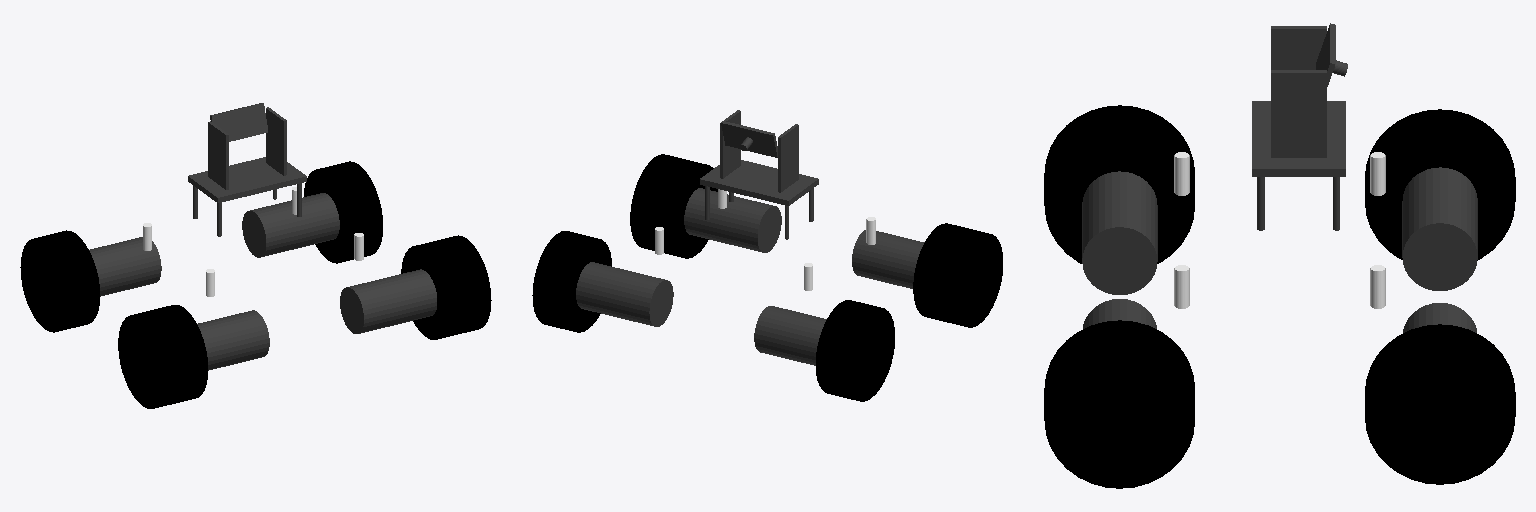
--- Render facts (derived) ---
Views: 3 orthographic renders of the robot side by side, from view 1: azimuth 30°, elevation 25°; view 2: azimuth 150°, elevation 25°; view 3: azimuth 270°, elevation 25°.
Model roberto with 24 links and 23 joints (4 revolute, 4 continuous, 15 fixed), rooted at base_link, posed all joints at 0.
Visible links, largest first — view 1: wheelBL_link, wheelFL_link, wheelBR_link, wheelFR_link, mountBR_link, mountFR_link, mountBL_link, mountFL_link, front_camera_base, front_camera_mount, front_camera_side_left, front_camera_side_right; view 2: wheelBL_link, wheelFL_link, wheelBR_link, wheelFR_link, mountFR_link, mountBR_link, mountFL_link, mountBL_link, front_camera_base, front_camera_side_left, front_camera_mount, front_camera_side_right; view 3: wheelBR_link, wheelFR_link, wheelBL_link, wheelFL_link, mountBL_link, mountFL_link, front_camera_side_right, front_camera_base, front_camera_side_left, mountFR_link, mountBR_link, front_camera_mount (+4 smaller).
Boxes of the visible links, x1,y1,x2,y2 form: wheelBL_link: (118,305,207,408); wheelFL_link: (20,230,99,332); wheelBR_link: (401,235,491,339); wheelFR_link: (304,161,382,263); mountBR_link: (340,269,436,333); mountFR_link: (242,193,339,257); mountBL_link: (197,310,269,370); mountFL_link: (89,237,161,296); front_camera_base: (188,157,306,202); front_camera_mount: (210,103,267,141); front_camera_side_left: (208,121,228,189); front_camera_side_right: (266,107,286,175); wheelBL_link: (913,223,1002,327); wheelFL_link: (816,300,894,401); wheelBR_link: (630,154,717,258); wheelFR_link: (532,231,611,332); mountFR_link: (576,262,673,326); mountBR_link: (684,188,781,252); mountFL_link: (754,306,826,365); mountBL_link: (852,230,924,288); front_camera_base: (700,160,818,205); front_camera_side_left: (778,124,798,192); front_camera_mount: (721,121,777,157); front_camera_side_right: (720,110,740,178); wheelBR_link: (1044,320,1194,488); wheelFR_link: (1365,324,1515,484); wheelBL_link: (1044,105,1194,263); wheelFL_link: (1365,109,1515,260); mountBL_link: (1082,171,1157,294); mountFL_link: (1402,167,1477,290); front_camera_side_right: (1271,70,1326,157); front_camera_base: (1252,101,1345,176); front_camera_side_left: (1271,26,1326,69); mountFR_link: (1403,303,1476,332); mountBR_link: (1083,299,1156,328); front_camera_mount: (1316,23,1335,86).
Size in the robot's own frame: 0.31 by 0.25 by 0.189 metres.
Geometry: only primitive shapes (box / cylinder / sphere) drawn; not drawn: 2 mesh visuals (reference in a form the renderer does not follow).

The robot description file, URDF, robot "roberto":
<?xml version="1.0" ?>
<!-- =================================================================================== -->
<!-- |    This document was autogenerated by xacro from roberto.xacro                  | -->
<!-- |    EDITING THIS FILE BY HAND IS NOT RECOMMENDED                                 | -->
<!-- =================================================================================== -->
<robot name="roberto" xmlns:xacro="http://www.ros.org/wiki/xacro">
  <material name="black">
    <color rgba="0.0 0.0 0.0 1.0"/>
  </material>
  <material name="blue">
    <color rgba="0.0 0.0 0.8 1.0"/>
  </material>
  <material name="green">
    <color rgba="0.0 0.8 0.0 1.0"/>
  </material>
  <material name="grey">
    <color rgba="0.3 0.3 0.3 1.0"/>
  </material>
  <material name="orange">
    <color rgba="1.0 0.423529411765 0.0392156862745 1.0"/>
  </material>
  <material name="brown">
    <color rgba="0.870588235294 0.811764705882 0.764705882353 1.0"/>
  </material>
  <material name="red">
    <color rgba="0.8 0.0 0.0 1.0"/>
  </material>
  <material name="white">
    <color rgba="1.0 1.0 1.0 1.0"/>
  </material>
  <!-- see https://secure.wikimedia.org/wikipedia/en/wiki/List_of_moment_of_inertia_tensors -->
  <!-- see https://secure.wikimedia.org/wikipedia/en/wiki/List_of_moment_of_inertia_tensors -->
  <!-- see https://secure.wikimedia.org/wikipedia/en/wiki/List_of_moment_of_inertia_tensors -->
  <!-- see https://secure.wikimedia.org/wikipedia/en/wiki/List_of_moment_of_inertia_tensors -->
  <!-- see https://secure.wikimedia.org/wikipedia/en/wiki/List_of_moment_of_inertia_tensors -->
  <!-- Base link -->
  <link name="base_link"/>
  <!--minimalist mesh-->
  <!-- joint and link definition -->
  <joint name="base2body_joint" type="fixed">
    <parent link="base_link"/>
    <child link="body_link"/>
    <!--parent link to this joint tf-->
    <origin rpy="0 0 0" xyz="0 0 0"/>
  </joint>
  <link name="body_link">
    <inertial>
      <mass value="0.2"/>
      <origin xyz="0 0 0"/>
      <inertia ixx="0.00084481632874" ixy="0.0" ixz="0.0" iyy="0.00084481632874" iyz="0.0" izz="0.001687499325"/>
    </inertial>
    <visual>
      <!--this link 2 mesh center tf, file-->
      <origin rpy="0 0 0" xyz="-0.1125 -0.1125 0.06"/>
      <geometry>
        <mesh filename="file:///windows/git/roberto/roberto_sim/src/roberto_models_jade/models/platform/roberto_body/meshes/platform.dae"/>
      </geometry>
      <!--<material name="light_blue"/> -->
    </visual>
    <collision>
      <!--this link 2 simple mesh center tf, file-->
      <origin rpy="0 0 0" xyz="0 0 0.06"/>
      <geometry>
        <box size="0.225 0.225 0.008"/>
      </geometry>
      <!--<material name="light_blue"/> -->
    </collision>
  </link>
  <gazebo reference="body_link">
    <!--<material>Gazebo/LightBlueLaser</material> -->
  </gazebo>
  <!--minimalist mesh-->
  <!-- joint and link definition -->
  <joint name="body2body_top_joint" type="fixed">
    <parent link="body_link"/>
    <child link="body_top_link"/>
    <!--parent link to this joint tf-->
    <origin rpy="0 0 0" xyz="0 0 0.095"/>
  </joint>
  <link name="body_top_link">
    <inertial>
      <mass value="0.125"/>
      <origin xyz="0 0 0"/>
      <inertia ixx="0.000266926976563" ixy="0.0" ixz="0.0" iyy="0.000337760281562" iyz="0.0" izz="0.000604166425"/>
    </inertial>
    <visual>
      <!--this link 2 mesh center tf, file-->
      <origin rpy="0 3.14159265359 0" xyz="0.09 -0.08 0"/>
      <geometry>
        <mesh filename="file:///windows/git/roberto/roberto_sim/src/roberto_models_jade/models/platform/roberto_body/meshes/platform_top.dae"/>
      </geometry>
      <!--<material name="light_blue"/> -->
    </visual>
    <collision>
      <!--this link 2 simple mesh center tf, file-->
      <origin rpy="0 3.14159265359 0" xyz="0 0 0"/>
      <geometry>
        <box size="0.18 0.16 0.005"/>
      </geometry>
      <!--<material name="light_blue"/> -->
    </collision>
  </link>
  <gazebo reference="body_top_link">
    <!--<material>Gazebo/LightBlueLaser</material> -->
  </gazebo>
  <!--minimalist mesh-->
  <!-- joint and link definition -->
  <joint name="body2spacerFL_joint" type="fixed">
    <parent link="body_link"/>
    <child link="spacerFL_link"/>
    <!--parent link to this joint tf-->
    <axis xyz="0 0 1"/>
    <origin rpy="0 0 0" xyz="-0.071 0.052 0.079"/>
  </joint>
  <link name="spacerFL_link">
    <inertial>
      <mass value="0.005"/>
      <origin xyz="0 0 0"/>
      <inertia ixx="2.21666578e-07" ixy="0.0" ixz="0.0" iyy="2.21666578e-07" iyz="0.0" izz="4e-08"/>
    </inertial>
    <visual>
      <!--this link 2 simple mesh center tf, file-->
      <origin rpy="0 0 0" xyz="0 0 0"/>
      <geometry>
        <cylinder length="0.022" radius="0.004"/>
      </geometry>
      <material name="white">
        <color rgba="1 1 1 1"/>
      </material>
    </visual>
    <collision>
      <!--this link 2 simple mesh center tf, file-->
      <origin rpy="0 0 0" xyz="0 0 0"/>
      <geometry>
        <cylinder length="0.022" radius="0.004"/>
      </geometry>
      <material name="white">
        <color rgba="1 1 1 1"/>
      </material>
    </collision>
  </link>
  <gazebo reference="spacerFL_link">
    <material>Gazebo/White</material>
    <selfCollide>false</selfCollide>
  </gazebo>
  <!--minimalist mesh-->
  <!-- joint and link definition -->
  <joint name="body2spacerFR_joint" type="fixed">
    <parent link="body_link"/>
    <child link="spacerFR_link"/>
    <!--parent link to this joint tf-->
    <axis xyz="0 0 1"/>
    <origin rpy="0 0 0" xyz="0.071 0.052 0.079"/>
  </joint>
  <link name="spacerFR_link">
    <inertial>
      <mass value="0.005"/>
      <origin xyz="0 0 0"/>
      <inertia ixx="2.21666578e-07" ixy="0.0" ixz="0.0" iyy="2.21666578e-07" iyz="0.0" izz="4e-08"/>
    </inertial>
    <visual>
      <!--this link 2 simple mesh center tf, file-->
      <origin rpy="0 0 0" xyz="0 0 0"/>
      <geometry>
        <cylinder length="0.022" radius="0.004"/>
      </geometry>
      <material name="white">
        <color rgba="1 1 1 1"/>
      </material>
    </visual>
    <collision>
      <!--this link 2 simple mesh center tf, file-->
      <origin rpy="0 0 0" xyz="0 0 0"/>
      <geometry>
        <cylinder length="0.022" radius="0.004"/>
      </geometry>
      <material name="white">
        <color rgba="1 1 1 1"/>
      </material>
    </collision>
  </link>
  <gazebo reference="spacerFR_link">
    <material>Gazebo/White</material>
    <selfCollide>false</selfCollide>
  </gazebo>
  <!--minimalist mesh-->
  <!-- joint and link definition -->
  <joint name="body2spacerBL_joint" type="fixed">
    <parent link="body_link"/>
    <child link="spacerBL_link"/>
    <!--parent link to this joint tf-->
    <axis xyz="0 0 1"/>
    <origin rpy="0 0 0" xyz="-0.071 -0.052 0.079"/>
  </joint>
  <link name="spacerBL_link">
    <inertial>
      <mass value="0.005"/>
      <origin xyz="0 0 0"/>
      <inertia ixx="2.21666578e-07" ixy="0.0" ixz="0.0" iyy="2.21666578e-07" iyz="0.0" izz="4e-08"/>
    </inertial>
    <visual>
      <!--this link 2 simple mesh center tf, file-->
      <origin rpy="0 0 0" xyz="0 0 0"/>
      <geometry>
        <cylinder length="0.022" radius="0.004"/>
      </geometry>
      <material name="white">
        <color rgba="1 1 1 1"/>
      </material>
    </visual>
    <collision>
      <!--this link 2 simple mesh center tf, file-->
      <origin rpy="0 0 0" xyz="0 0 0"/>
      <geometry>
        <cylinder length="0.022" radius="0.004"/>
      </geometry>
      <material name="white">
        <color rgba="1 1 1 1"/>
      </material>
    </collision>
  </link>
  <gazebo reference="spacerBL_link">
    <material>Gazebo/White</material>
    <selfCollide>false</selfCollide>
  </gazebo>
  <!--minimalist mesh-->
  <!-- joint and link definition -->
  <joint name="body2spacerBR_joint" type="fixed">
    <parent link="body_link"/>
    <child link="spacerBR_link"/>
    <!--parent link to this joint tf-->
    <axis xyz="0 0 1"/>
    <origin rpy="0 0 0" xyz="0.071 -0.052 0.079"/>
  </joint>
  <link name="spacerBR_link">
    <inertial>
      <mass value="0.005"/>
      <origin xyz="0 0 0"/>
      <inertia ixx="2.21666578e-07" ixy="0.0" ixz="0.0" iyy="2.21666578e-07" iyz="0.0" izz="4e-08"/>
    </inertial>
    <visual>
      <!--this link 2 simple mesh center tf, file-->
      <origin rpy="0 0 0" xyz="0 0 0"/>
      <geometry>
        <cylinder length="0.022" radius="0.004"/>
      </geometry>
      <material name="white">
        <color rgba="1 1 1 1"/>
      </material>
    </visual>
    <collision>
      <!--this link 2 simple mesh center tf, file-->
      <origin rpy="0 0 0" xyz="0 0 0"/>
      <geometry>
        <cylinder length="0.022" radius="0.004"/>
      </geometry>
      <material name="white">
        <color rgba="1 1 1 1"/>
      </material>
    </collision>
  </link>
  <gazebo reference="spacerBR_link">
    <material>Gazebo/White</material>
    <selfCollide>false</selfCollide>
  </gazebo>
  <!--minimalist mesh-->
  <!-- joint and link definition -->
  <joint name="body2mountBR_joint" type="revolute">
    <parent link="body_link"/>
    <child link="mountBR_link"/>
    <!--parent link to this joint tf-->
    <origin rpy="0 0 0" xyz="0.085 -0.085 0.04"/>
    <axis rpy="0 0 0" xyz="0 0 1"/>
    <limit effort="10.0" lower="-1.57" upper="0.2618" velocity="4"/>
    <!--<dynamics damping="0.7" />-->
    <!--<origin xyz="${wheelPos*tY} 0 0" rpy="0 0 0" />
      <limit effort="10" velocity="4"/>-->
  </joint>
  <link name="mountBR_link">
    <inertial>
      <mass value="0.19"/>
      <origin rpy="0 1.57079632679 0" xyz="0 0 0"/>
      <inertia ixx="0.0001203332852" ixy="0.0" ixz="0.0" iyy="0.0001203332852" iyz="0.0" izz="3.8e-05"/>
    </inertial>
    <visual>
      <!--this link 2 simple mesh center tf, file-->
      <origin rpy="0 1.57079632679 0" xyz="0 0 0"/>
      <geometry>
        <cylinder length="0.08" radius="0.02"/>
      </geometry>
      <material name="grey"/>
    </visual>
    <collision>
      <!--this link 2 simple mesh center tf, file-->
      <origin rpy="0 1.57079632679 0" xyz="0 0 0"/>
      <geometry>
        <cylinder length="0.08" radius="0.02"/>
      </geometry>
      <material name="grey"/>
    </collision>
  </link>
  <gazebo reference="mountBR_link">
    <mu1>5.9</mu1>
    <mu2>5.9</mu2>
    <kp>1000000.0</kp>
    <kd>100.0</kd>
    <minDepth>0.001</minDepth>
    <maxVel>1.0</maxVel>
    <material>Gazebo/Grey</material>
  </gazebo>
  <!--minimalist mesh-->
  <!-- joint and link definition -->
  <joint name="body2mountBL_joint" type="revolute">
    <parent link="body_link"/>
    <child link="mountBL_link"/>
    <!--parent link to this joint tf-->
    <origin rpy="0 0 0" xyz="-0.085 -0.085 0.04"/>
    <axis rpy="0 0 0" xyz="0 0 1"/>
    <limit effort="10.0" lower="-0.2618" upper="1.57" velocity="4"/>
    <!--<dynamics damping="0.7" />-->
    <!--<origin xyz="${wheelPos*tY} 0 0" rpy="0 0 0" />
      <limit effort="10" velocity="4"/>-->
  </joint>
  <link name="mountBL_link">
    <inertial>
      <mass value="0.19"/>
      <origin rpy="0 1.57079632679 0" xyz="0 0 0"/>
      <inertia ixx="0.0001203332852" ixy="0.0" ixz="0.0" iyy="0.0001203332852" iyz="0.0" izz="3.8e-05"/>
    </inertial>
    <visual>
      <!--this link 2 simple mesh center tf, file-->
      <origin rpy="0 1.57079632679 0" xyz="0 0 0"/>
      <geometry>
        <cylinder length="0.08" radius="0.02"/>
      </geometry>
      <material name="grey"/>
    </visual>
    <collision>
      <!--this link 2 simple mesh center tf, file-->
      <origin rpy="0 1.57079632679 0" xyz="0 0 0"/>
      <geometry>
        <cylinder length="0.08" radius="0.02"/>
      </geometry>
      <material name="grey"/>
    </collision>
  </link>
  <gazebo reference="mountBL_link">
    <mu1>5.9</mu1>
    <mu2>5.9</mu2>
    <kp>1000000.0</kp>
    <kd>100.0</kd>
    <minDepth>0.001</minDepth>
    <maxVel>1.0</maxVel>
    <material>Gazebo/Grey</material>
  </gazebo>
  <!--minimalist mesh-->
  <!-- joint and link definition -->
  <joint name="body2mountFL_joint" type="revolute">
    <parent link="body_link"/>
    <child link="mountFL_link"/>
    <!--parent link to this joint tf-->
    <origin rpy="0 0 0" xyz="-0.085 0.085 0.04"/>
    <axis rpy="0 0 0" xyz="0 0 1"/>
    <limit effort="10.0" lower="-1.57" upper="0.2618" velocity="4"/>
    <!--<dynamics damping="0.7" />-->
    <!--<origin xyz="${wheelPos*tY} 0 0" rpy="0 0 0" />
      <limit effort="10" velocity="4"/>-->
  </joint>
  <link name="mountFL_link">
    <inertial>
      <mass value="0.19"/>
      <origin rpy="0 1.57079632679 0" xyz="0 0 0"/>
      <inertia ixx="9.65832947e-05" ixy="0.0" ixz="0.0" iyy="9.65832947e-05" iyz="0.0" izz="3.8e-05"/>
    </inertial>
    <visual>
      <!--this link 2 simple mesh center tf, file-->
      <origin rpy="0 1.57079632679 0" xyz="0 0 0"/>
      <geometry>
        <cylinder length="0.07" radius="0.02"/>
      </geometry>
      <material name="grey"/>
    </visual>
    <collision>
      <!--this link 2 simple mesh center tf, file-->
      <origin rpy="0 1.57079632679 0" xyz="0 0 0"/>
      <geometry>
        <cylinder length="0.07" radius="0.02"/>
      </geometry>
      <material name="grey"/>
    </collision>
  </link>
  <gazebo reference="mountFL_link">
    <mu1>5.9</mu1>
    <mu2>5.9</mu2>
    <kp>1000000.0</kp>
    <kd>100.0</kd>
    <minDepth>0.001</minDepth>
    <maxVel>1.0</maxVel>
    <material>Gazebo/Grey</material>
  </gazebo>
  <!--minimalist mesh-->
  <!-- joint and link definition -->
  <joint name="body2mountFR_joint" type="revolute">
    <parent link="body_link"/>
    <child link="mountFR_link"/>
    <!--parent link to this joint tf-->
    <origin rpy="0 0 0" xyz="0.085 0.085 0.04"/>
    <axis rpy="0 0 0" xyz="0 0 1"/>
    <limit effort="10.0" lower="-0.2618" upper="1.57" velocity="4"/>
    <!--<dynamics damping="0.7" />-->
    <!--<origin xyz="${wheelPos*tY} 0 0" rpy="0 0 0" />
      <limit effort="10" velocity="4"/>-->
  </joint>
  <link name="mountFR_link">
    <inertial>
      <mass value="0.19"/>
      <origin rpy="0 1.57079632679 0" xyz="0 0 0"/>
      <inertia ixx="9.65832947e-05" ixy="0.0" ixz="0.0" iyy="9.65832947e-05" iyz="0.0" izz="3.8e-05"/>
    </inertial>
    <visual>
      <!--this link 2 simple mesh center tf, file-->
      <origin rpy="0 1.57079632679 0" xyz="0 0 0"/>
      <geometry>
        <cylinder length="0.07" radius="0.02"/>
      </geometry>
      <material name="grey"/>
    </visual>
    <collision>
      <!--this link 2 simple mesh center tf, file-->
      <origin rpy="0 1.57079632679 0" xyz="0 0 0"/>
      <geometry>
        <cylinder length="0.07" radius="0.02"/>
      </geometry>
      <material name="grey"/>
    </collision>
  </link>
  <gazebo reference="mountFR_link">
    <mu1>5.9</mu1>
    <mu2>5.9</mu2>
    <kp>1000000.0</kp>
    <kd>100.0</kd>
    <minDepth>0.001</minDepth>
    <maxVel>1.0</maxVel>
    <material>Gazebo/Grey</material>
  </gazebo>
  <!--minimalist mesh-->
  <!-- joint and link definition -->
  <joint name="mountFL2wheelFL_joint" type="continuous">
    <parent link="mountFL_link"/>
    <child link="wheelFL_link"/>
    <!--parent link to this joint tf-->
    <origin rpy="0 0 0" xyz="-0.05 0 0"/>
    <axis rpy="0 0 0" xyz="1 0 0"/>
    <!--<dynamics damping="0.7" />-->
    <!--<limit effort="10" velocity="4"/>
      <joint_properties damping="0.0" friction="0.0"/>-->
  </joint>
  <link name="wheelFL_link">
    <inertial>
      <mass value="0.045"/>
      <origin rpy="0 1.57079632679 0" xyz="0 0 0"/>
      <inertia ixx="2.137499145e-05" ixy="0.0" ixz="0.0" iyy="2.137499145e-05" iyz="0.0" izz="3.6e-05"/>
    </inertial>
    <visual>
      <!--this link 2 simple mesh center tf, file-->
      <origin rpy="0 1.57079632679 0" xyz="0 0 0"/>
      <geometry>
        <cylinder length="0.03" radius="0.04"/>
      </geometry>
      <material name="black"/>
    </visual>
    <collision>
      <!--this link 2 simple mesh center tf, file-->
      <origin rpy="0 1.57079632679 0" xyz="0 0 0"/>
      <geometry>
        <cylinder length="0.03" radius="0.04"/>
      </geometry>
      <material name="black"/>
    </collision>
  </link>
  <gazebo reference="wheelFL_link">
    <!--<selfCollide>false</selfCollide>-->
    <mu1>5.9</mu1>
    <kp>1000000.0</kp>
    <kd>100.0</kd>
    <minDepth>0.001</minDepth>
    <maxVel>1.0</maxVel>
    <material>Gazebo/Black</material>
  </gazebo>
  <!--minimalist mesh-->
  <!-- joint and link definition -->
  <joint name="mountFR2wheelFR_joint" type="continuous">
    <parent link="mountFR_link"/>
    <child link="wheelFR_link"/>
    <!--parent link to this joint tf-->
    <origin rpy="0 0 0" xyz="0.05 0 0"/>
    <axis rpy="0 0 0" xyz="1 0 0"/>
    <!--<dynamics damping="0.7" />-->
    <!--<limit effort="10" velocity="4"/>
      <joint_properties damping="0.0" friction="0.0"/>-->
  </joint>
  <link name="wheelFR_link">
    <inertial>
      <mass value="0.045"/>
      <origin rpy="0 1.57079632679 0" xyz="0 0 0"/>
      <inertia ixx="2.137499145e-05" ixy="0.0" ixz="0.0" iyy="2.137499145e-05" iyz="0.0" izz="3.6e-05"/>
    </inertial>
    <visual>
      <!--this link 2 simple mesh center tf, file-->
      <origin rpy="0 1.57079632679 0" xyz="0 0 0"/>
      <geometry>
        <cylinder length="0.03" radius="0.04"/>
      </geometry>
      <material name="black"/>
    </visual>
    <collision>
      <!--this link 2 simple mesh center tf, file-->
      <origin rpy="0 1.57079632679 0" xyz="0 0 0"/>
      <geometry>
        <cylinder length="0.03" radius="0.04"/>
      </geometry>
      <material name="black"/>
    </collision>
  </link>
  <gazebo reference="wheelFR_link">
    <!--<selfCollide>false</selfCollide>-->
    <mu1>5.9</mu1>
    <kp>1000000.0</kp>
    <kd>100.0</kd>
    <minDepth>0.001</minDepth>
    <maxVel>1.0</maxVel>
    <material>Gazebo/Black</material>
  </gazebo>
  <!--minimalist mesh-->
  <!-- joint and link definition -->
  <joint name="mountBL2wheelBL_joint" type="continuous">
    <parent link="mountBL_link"/>
    <child link="wheelBL_link"/>
    <!--parent link to this joint tf-->
    <origin rpy="0 0 0" xyz="-0.05 0 0"/>
    <axis rpy="0 0 0" xyz="1 0 0"/>
    <!--<dynamics damping="0.7" />-->
    <!--<limit effort="10" velocity="4"/>
      <joint_properties damping="0.0" friction="0.0"/>-->
  </joint>
  <link name="wheelBL_link">
    <inertial>
      <mass value="0.05"/>
      <origin rpy="0 1.57079632679 0" xyz="0 0 0"/>
      <inertia ixx="2.6666656e-05" ixy="0.0" ixz="0.0" iyy="2.6666656e-05" iyz="0.0" izz="4e-05"/>
    </inertial>
    <visual>
      <!--this link 2 simple mesh center tf, file-->
      <origin rpy="0 1.57079632679 0" xyz="0 0 0"/>
      <geometry>
        <cylinder length="0.04" radius="0.04"/>
      </geometry>
      <material name="black"/>
    </visual>
    <collision>
      <!--this link 2 simple mesh center tf, file-->
      <origin rpy="0 1.57079632679 0" xyz="0 0 0"/>
      <geometry>
        <cylinder length="0.04" radius="0.04"/>
      </geometry>
      <material name="black"/>
    </collision>
  </link>
  <gazebo reference="wheelBL_link">
    <!--<selfCollide>false</selfCollide>-->
    <mu1>5.9</mu1>
    <kp>1000000.0</kp>
    <kd>100.0</kd>
    <minDepth>0.001</minDepth>
    <maxVel>1.0</maxVel>
    <material>Gazebo/Black</material>
  </gazebo>
  <!--minimalist mesh-->
  <!-- joint and link definition -->
  <joint name="mountBR2wheelBR_joint" type="continuous">
    <parent link="mountBR_link"/>
    <child link="wheelBR_link"/>
    <!--parent link to this joint tf-->
    <origin rpy="0 0 0" xyz="0.05 0 0"/>
    <axis rpy="0 0 0" xyz="1 0 0"/>
    <!--<dynamics damping="0.7" />-->
    <!--<limit effort="10" velocity="4"/>
      <joint_properties damping="0.0" friction="0.0"/>-->
  </joint>
  <link name="wheelBR_link">
    <inertial>
      <mass value="0.05"/>
      <origin rpy="0 1.57079632679 0" xyz="0 0 0"/>
      <inertia ixx="2.6666656e-05" ixy="0.0" ixz="0.0" iyy="2.6666656e-05" iyz="0.0" izz="4e-05"/>
    </inertial>
    <visual>
      <!--this link 2 simple mesh center tf, file-->
      <origin rpy="0 1.57079632679 0" xyz="0 0 0"/>
      <geometry>
        <cylinder length="0.04" radius="0.04"/>
      </geometry>
      <material name="black"/>
    </visual>
    <collision>
      <!--this link 2 simple mesh center tf, file-->
      <origin rpy="0 1.57079632679 0" xyz="0 0 0"/>
      <geometry>
        <cylinder length="0.04" radius="0.04"/>
      </geometry>
      <material name="black"/>
    </collision>
  </link>
  <gazebo reference="wheelBR_link">
    <!--<selfCollide>false</selfCollide>-->
    <mu1>5.9</mu1>
    <kp>1000000.0</kp>
    <kd>100.0</kd>
    <minDepth>0.001</minDepth>
    <maxVel>1.0</maxVel>
    <material>Gazebo/Black</material>
  </gazebo>
  <!-- simplified detailed empty-->
  <gazebo>
    <plugin filename="libroberto_gazebo_ros_control.so" name="roberto_motor_drive">
      <robotNamespace/>
      <rosDebugLevel>Debug</rosDebugLevel>
      <alwaysOn>1</alwaysOn>
      <updateRate>50.0</updateRate>
      <robotBaseFrame>base_link</robotBaseFrame>
      <odometryFrame>odom</odometryFrame>
      <commandTopic>cmd_vel</commandTopic>
      <odometryTopic>odom</odometryTopic>
      <odometrySource>encoder</odometrySource>
      <servoLeftJoint>body2mountFL_joint</servoLeftJoint>
      <servoRightJoint>body2mountFR_joint</servoRightJoint>
      <servoLeftMimicJoint>body2mountBL_joint</servoLeftMimicJoint>
      <servoRightMimicJoint>body2mountBR_joint</servoRightMimicJoint>
      <frontLeftJoint>mountFL2wheelFL_joint</frontLeftJoint>
      <frontRightJoint>mountFR2wheelFR_joint</frontRightJoint>
      <rearLeftJoint>mountBL2wheelBL_joint</rearLeftJoint>
      <rearRightJoint>mountBR2wheelBR_joint</rearRightJoint>
      <wheelDiameter>0.08</wheelDiameter>
      <wheelTorque>10</wheelTorque>
      <wheelAcceleration>1.5</wheelAcceleration>
      <!--<wheelAcceleration>0</wheelAcceleration>-->
      <widthBetweenMotorPivotPoints>0.17</widthBetweenMotorPivotPoints>
      <motorPivotPointToWheel>0.045</motorPivotPointToWheel>
      <publishTf>1</publishTf>
      <publishWheelTF>true</publishWheelTF>
      <publishWheelJointState>true</publishWheelJointState>
    </plugin>
  </gazebo>
  <!-- IMU 
    <xacro:property name="model_dir" value="$(find roberto_models_jade)/models/sensors/imu"/>
    <xacro:include filename="$(find roberto_models_jade)/models/sensors/imu/imu.xacro"/>
    <xacro:imu_sensor name="imu9dof" parent="base_link" xyz="0.0 0.05 0.262" rpy="0 0 ${pi/2}"/>-->
  <joint name="body_top_front_camera_base_joint" type="fixed">
    <origin rpy="0 0 1.57079632679" xyz="0 0.01 0.0375"/>
    <parent link="body_top_link"/>
    <child link="front_camera_base"/>
  </joint>
  <joint name="front_camera_base_front_camera_spacer1_joint" type="fixed">
    <origin rpy="0 0 0" xyz="0.02 0.038 -0.0175"/>
    <parent link="front_camera_base"/>
    <child link="front_camera_spacer1"/>
  </joint>
  <joint name="front_camera_base_front_camera_spacer2_joint" type="fixed">
    <origin rpy="0 0 0" xyz="-0.02 0.038 -0.0175"/>
    <parent link="front_camera_base"/>
    <child link="front_camera_spacer2"/>
  </joint>
  <joint name="front_camera_base_front_camera_spacer3_joint" type="fixed">
    <origin rpy="0 0 0" xyz="0.02 -0.038 -0.0175"/>
    <parent link="front_camera_base"/>
    <child link="front_camera_spacer3"/>
  </joint>
  <joint name="front_camera_base_front_camera_spacer4_joint" type="fixed">
    <origin rpy="0 0 0" xyz="-0.02 -0.038 -0.0175"/>
    <parent link="front_camera_base"/>
    <child link="front_camera_spacer4"/>
  </joint>
  <joint name="front_camera_base_front_camera_side_left_joint" type="fixed">
    <origin rpy="1.57079632679 1.57079632679 0" xyz="0 0.0275 0.0275"/>
    <parent link="front_camera_base"/>
    <child link="front_camera_side_left"/>
  </joint>
  <joint name="front_camera_base_front_camera_side_right_joint" type="fixed">
    <origin rpy="1.57079632679 1.57079632679 0" xyz="0 -0.0275 0.0275"/>
    <parent link="front_camera_base"/>
    <child link="front_camera_side_right"/>
  </joint>
  <joint name="front_camera_side_right_front_camera_mount_joint" type="fixed">
    <origin rpy="1.88495559215 1.57079632679 0" xyz="-0.02125 0 -0.027"/>
    <parent link="front_camera_side_right"/>
    <child link="front_camera_mount"/>
  </joint>
  <joint name="front_camera_mount_front_camera_cam_joint" type="fixed">
    <origin rpy="0 3.14159265359 0" xyz="0 0 -0.0215"/>
    <parent link="front_camera_mount"/>
    <child link="front_camera"/>
  </joint>
  <link name="front_camera_base">
    <inertial>
      <mass value="0.015"/>
      <origin xyz="0 0 0"/>
      <inertia ixx="9.062496375e-06" ixy="0.0" ixz="0.0" iyy="3.1562487375e-06" iyz="0.0" izz="1.21562451375e-05"/>
    </inertial>
    <visual>
      <origin rpy="0 0 0" xyz="0 0 0"/>
      <geometry>
        <box size="0.05 0.085 0.005"/>
      </geometry>
      <material name="grey"/>
    </visual>
    <collision>
      <origin rpy="0 0 0" xyz="0 0 0"/>
      <geometry>
        <box size="0.05 0.085 0.005"/>
      </geometry>
    </collision>
  </link>
  <link name="front_camera_spacer1">
    <inertial>
      <mass value="0.005"/>
      <origin xyz="0 0 0"/>
      <inertia ixx="5.154164605e-07" ixy="0.0" ixz="0.0" iyy="5.154164605e-07" iyz="0.0" izz="1e-08"/>
    </inertial>
    <visual>
      <origin rpy="0 0 0" xyz="0 0 0"/>
      <geometry>
        <cylinder length="0.035" radius="0.002"/>
      </geometry>
      <material name="grey"/>
    </visual>
    <collision>
      <origin rpy="0 0 0" xyz="0 0 0"/>
      <geometry>
        <cylinder length="0.035" radius="0.002"/>
      </geometry>
    </collision>
  </link>
  <link name="front_camera_spacer2">
    <inertial>
      <mass value="0.005"/>
      <origin xyz="0 0 0"/>
      <inertia ixx="5.154164605e-07" ixy="0.0" ixz="0.0" iyy="5.154164605e-07" iyz="0.0" izz="1e-08"/>
    </inertial>
    <visual>
      <origin rpy="0 0 0" xyz="0 0 0"/>
      <geometry>
        <cylinder length="0.035" radius="0.002"/>
      </geometry>
      <material name="grey"/>
    </visual>
    <collision>
      <origin rpy="0 0 0" xyz="0 0 0"/>
      <geometry>
        <cylinder length="0.035" radius="0.002"/>
      </geometry>
    </collision>
  </link>
  <link name="front_camera_spacer3">
    <inertial>
      <mass value="0.005"/>
      <origin xyz="0 0 0"/>
      <inertia ixx="5.154164605e-07" ixy="0.0" ixz="0.0" iyy="5.154164605e-07" iyz="0.0" izz="1e-08"/>
    </inertial>
    <visual>
      <origin rpy="0 0 0" xyz="0 0 0"/>
      <geometry>
        <cylinder length="0.035" radius="0.002"/>
      </geometry>
      <material name="grey"/>
    </visual>
    <collision>
      <origin rpy="0 0 0" xyz="0 0 0"/>
      <geometry>
        <cylinder length="0.035" radius="0.002"/>
      </geometry>
    </collision>
  </link>
  <link name="front_camera_spacer4">
    <inertial>
      <mass value="0.005"/>
      <origin xyz="0 0 0"/>
      <inertia ixx="5.154164605e-07" ixy="0.0" ixz="0.0" iyy="5.154164605e-07" iyz="0.0" izz="1e-08"/>
    </inertial>
    <visual>
      <origin rpy="0 0 0" xyz="0 0 0"/>
      <geometry>
        <cylinder length="0.035" radius="0.002"/>
      </geometry>
      <material name="grey"/>
    </visual>
    <collision>
      <origin rpy="0 0 0" xyz="0 0 0"/>
      <geometry>
        <cylinder length="0.035" radius="0.002"/>
      </geometry>
    </collision>
  </link>
  <link name="front_camera_side_left">
    <inertial>
      <mass value="0.01"/>
      <origin xyz="0 0 0"/>
      <inertia ixx="7.57499697e-07" ixy="0.0" ixz="0.0" iyy="2.090832497e-06" iyz="0.0" izz="2.8333322e-06"/>
    </inertial>
    <visual>
      <origin rpy="0 0 0" xyz="0 0 0"/>
      <geometry>
        <box size="0.05 0.03 0.003"/>
      </geometry>
      <material name="grey"/>
    </visual>
    <collision>
      <origin rpy="0 0 0" xyz="0 0 0"/>
      <geometry>
        <box size="0.05 0.03 0.003"/>
      </geometry>
    </collision>
  </link>
  <link name="front_camera_side_right">
    <inertial>
      <mass value="0.01"/>
      <origin xyz="0 0 0"/>
      <inertia ixx="7.57499697e-07" ixy="0.0" ixz="0.0" iyy="2.090832497e-06" iyz="0.0" izz="2.8333322e-06"/>
    </inertial>
    <visual>
      <origin rpy="0 0 0" xyz="0 0 0"/>
      <geometry>
        <box size="0.05 0.03 0.003"/>
      </geometry>
      <material name="grey"/>
    </visual>
    <collision>
      <origin rpy="0 0 0" xyz="0 0 0"/>
      <geometry>
        <box size="0.05 0.03 0.003"/>
      </geometry>
    </collision>
  </link>
  <link name="front_camera_mount">
    <inertial>
      <mass value="0.01"/>
      <origin xyz="0 0 0"/>
      <inertia ixx="5.28333122e-07" ixy="0.0" ixz="0.0" iyy="2.090832497e-06" iyz="0.0" izz="2.604165625e-06"/>
    </inertial>
    <visual>
      <origin rpy="0 0 0" xyz="0 0 -0.015"/>
      <geometry>
        <box size="0.05 0.025 0.003"/>
      </geometry>
      <material name="grey"/>
    </visual>
    <collision>
      <origin rpy="0 0 0" xyz="0 0 -0.015"/>
      <geometry>
        <box size="0.05 0.025 0.003"/>
      </geometry>
    </collision>
  </link>
  <!-- Camera -->
  <link name="front_camera">
    <inertial>
      <mass value="0.1"/>
      <origin xyz="0 0 0"/>
      <inertia ixx="1.1395828775e-06" ixy="0.0" ixz="0.0" iyy="1.1395828775e-06" iyz="0.0" izz="6.125e-07"/>
    </inertial>
    <visual>
      <origin rpy="0 0 0" xyz="0 0 0"/>
      <geometry>
        <cylinder length="0.01" radius="0.0035"/>
      </geometry>
      <material name="grey"/>
    </visual>
    <collision>
      <origin rpy="0 0 0" xyz="0 0 0"/>
      <geometry>
        <cylinder length="0.01" radius="0.0035"/>
      </geometry>
    </collision>
  </link>
  <gazebo reference="front_camera">
    <material value="Gazebo/Grey"/>
  </gazebo>
  <gazebo reference="front_camera">
    <sensor name="camera1" type="camera">
      <update_rate>30.0</update_rate>
      <camera name="head">
        <pose>0 0 0 0 -1.57079632679  1.57079632679</pose>
        <horizontal_fov>1.18682389133</horizontal_fov>
        <image>
          <width>1280</width>
          <height>720</height>
          <format>R8G8B8</format>
        </image>
        <clip>
          <near>0.02</near>
          <far>300</far>
        </clip>
        <noise>
          <type>gaussian</type>
          <!-- Noise is sampled independently per pixel on each frame.  
               That pixel's noise value is added to each of its color
               channels, which at that point lie in the range [0,1]. -->
          <mean>0.0</mean>
          <stddev>0.007</stddev>
        </noise>
      </camera>
      <plugin filename="libgazebo_ros_camera.so" name="camera_controller">
        <robotNamespace/>
        <alwaysOn>true</alwaysOn>
        <updateRate>0.0</updateRate>
        <cameraName>front_camera</cameraName>
        <imageTopicName>image_raw</imageTopicName>
        <cameraInfoTopicName>camera_info</cameraInfoTopicName>
        <frameName>front_camera</frameName>
        <hackBaseline>0.00</hackBaseline>
        <distortionK1>0.0</distortionK1>
        <distortionK2>0.0</distortionK2>
        <distortionK3>0.0</distortionK3>
        <distortionT1>0.0</distortionT1>
        <distortionT2>0.0</distortionT2>
      </plugin>
    </sensor>
  </gazebo>
</robot>
